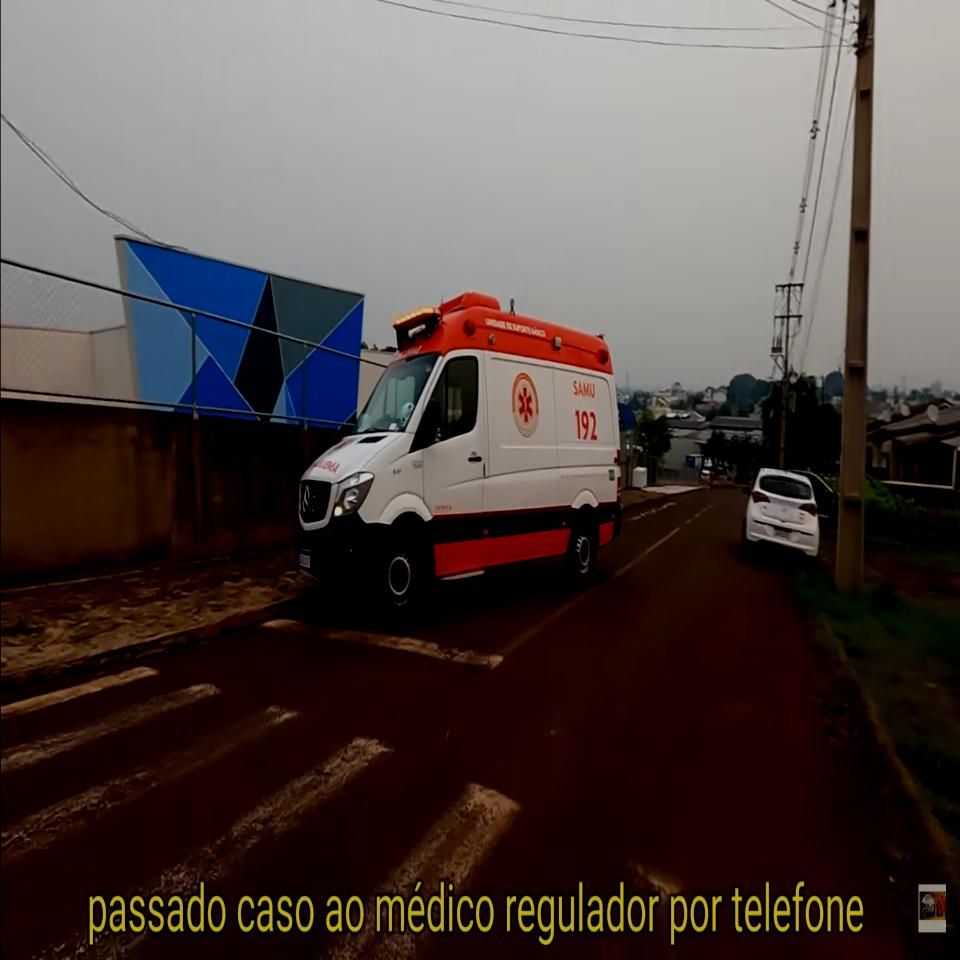ambulancia: (296, 288, 626, 628)
